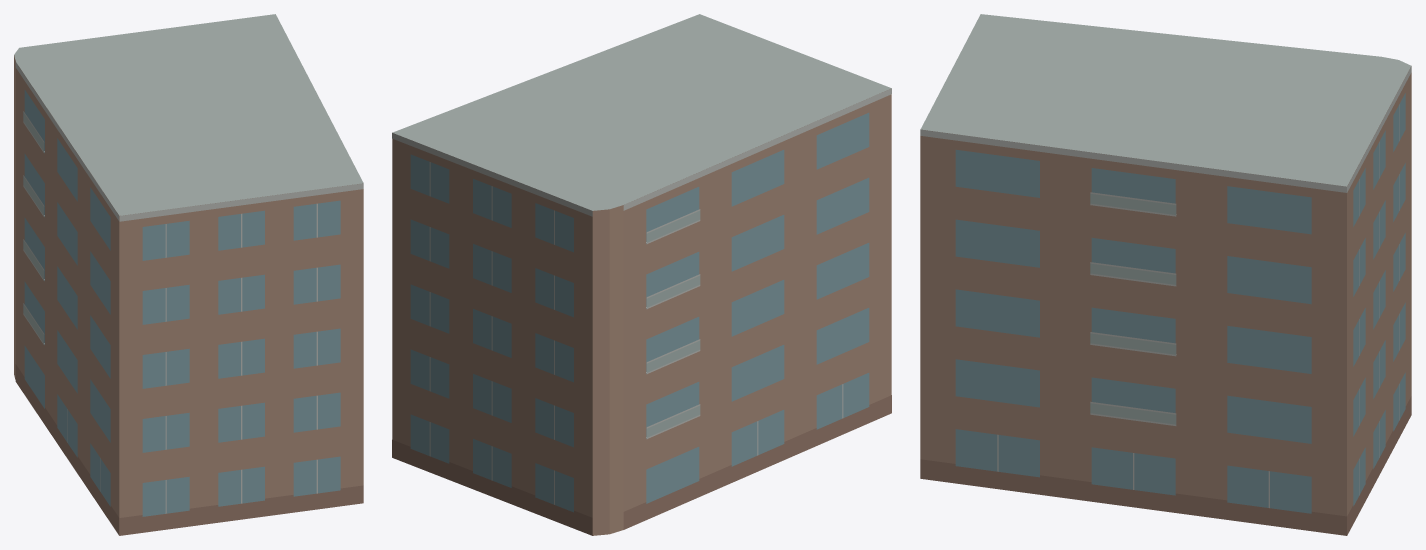
Rendered from survey-upis-32509110.glb.
3 views of the same model, side by side, from view 1: azimuth 30°, elevation 25°; view 2: azimuth 150°, elevation 25°; view 3: azimuth 270°, elevation 25° (orthographic). The views are drawn at different scales.
Parts seen in each view (by area): view 1: survey-upis-32509110.tmp; view 2: survey-upis-32509110.tmp; view 3: survey-upis-32509110.tmp.
Part boxes in pixels (x1,y1,x2,y2): survey-upis-32509110.tmp: [14, 14, 363, 535]; survey-upis-32509110.tmp: [392, 14, 891, 535]; survey-upis-32509110.tmp: [920, 14, 1411, 535].
Bounding box in the file's own units: 14.21 × 13.4 × 17.09.
